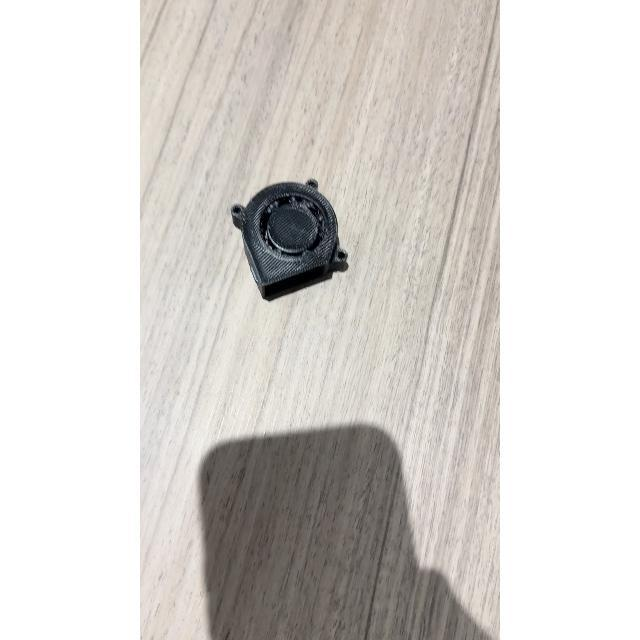Pieza3: (219, 165, 357, 309)
